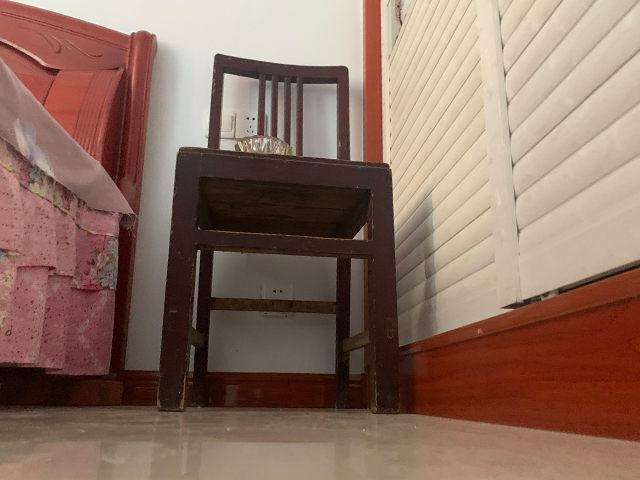bed: (1, 1, 163, 402)
cabinet: (359, 1, 640, 442)
stool: (155, 53, 402, 417)
